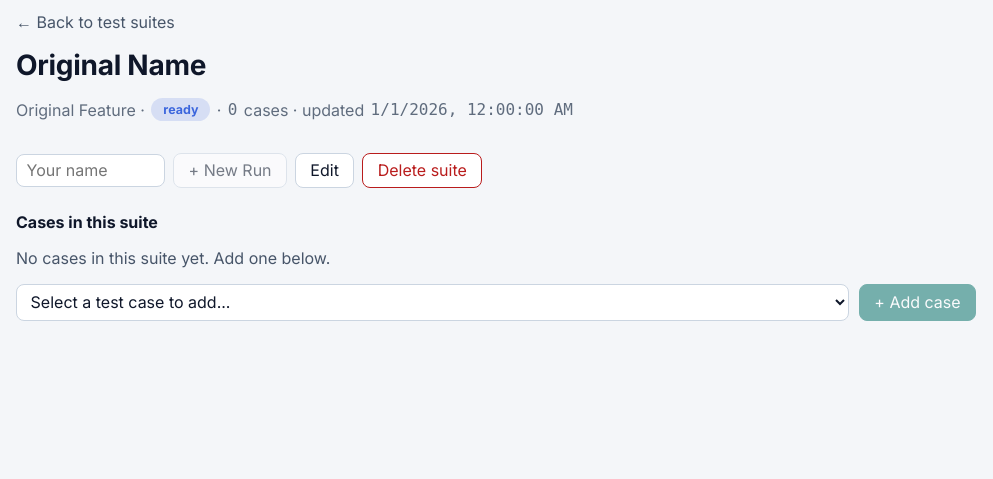
TestSuiteDetailPage — edit/cancel › an in-progress draft is also reset the moment Cancel is clicked, before reopening
This screenshot has width=993, height=479.
Expected: the heading "Original Name" is shown, [16,48,206,82]
Click the button "Edit": (325, 170) [295,153,354,188]
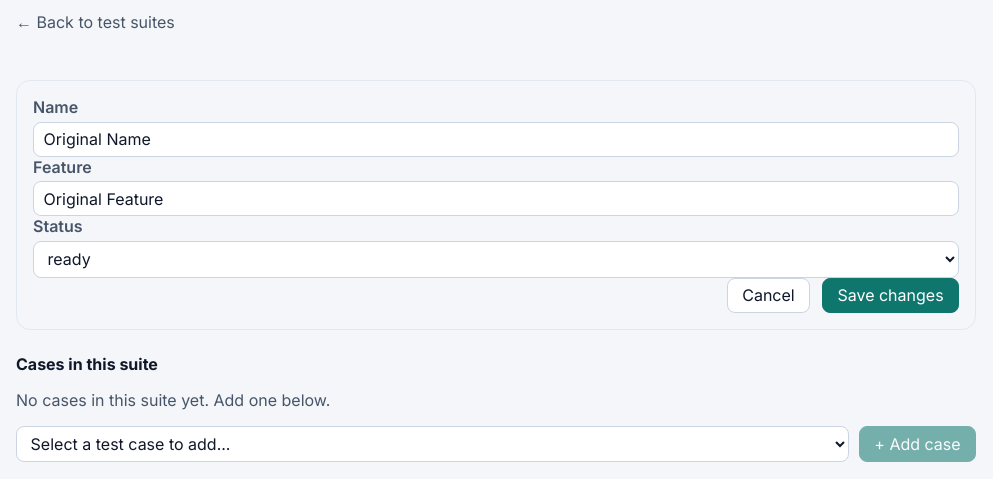
Replace the text in the field labelled "Name" with "Discarded Name": (496, 139) [33,122,959,157]
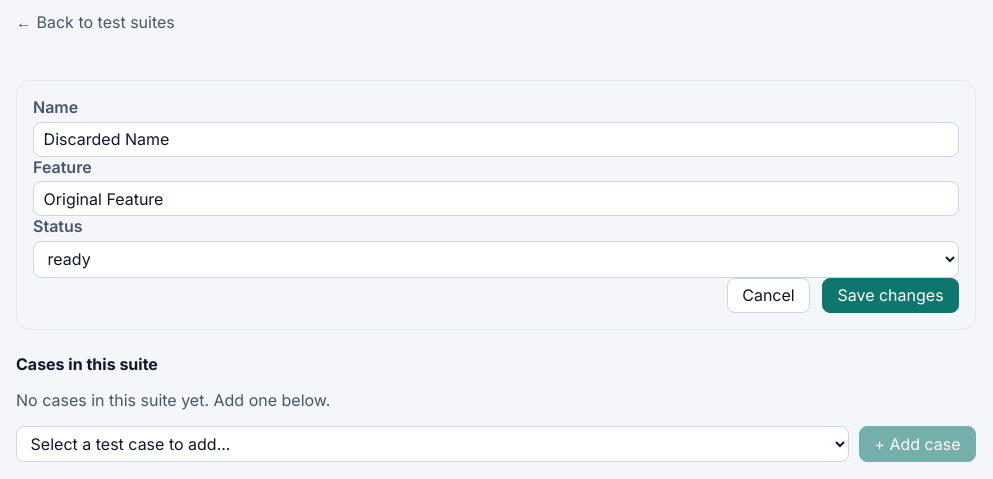
Click the button "Cancel": (768, 295) [727,278,810,312]
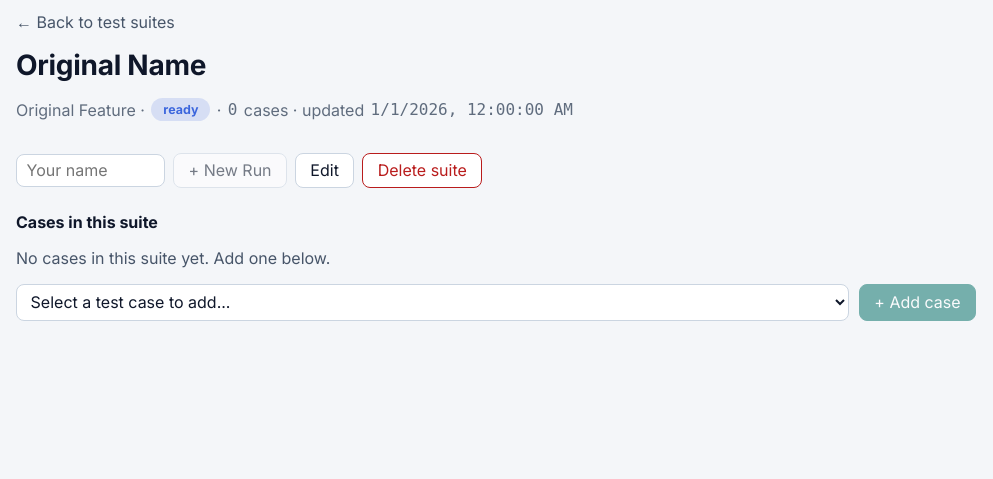
Expected: the heading "Original Name" is shown, [16,48,206,82]
